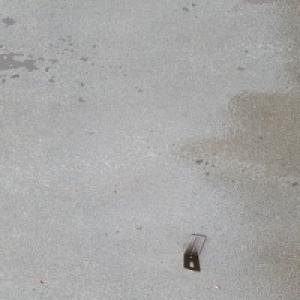MetalPart: (181, 234, 207, 273)
